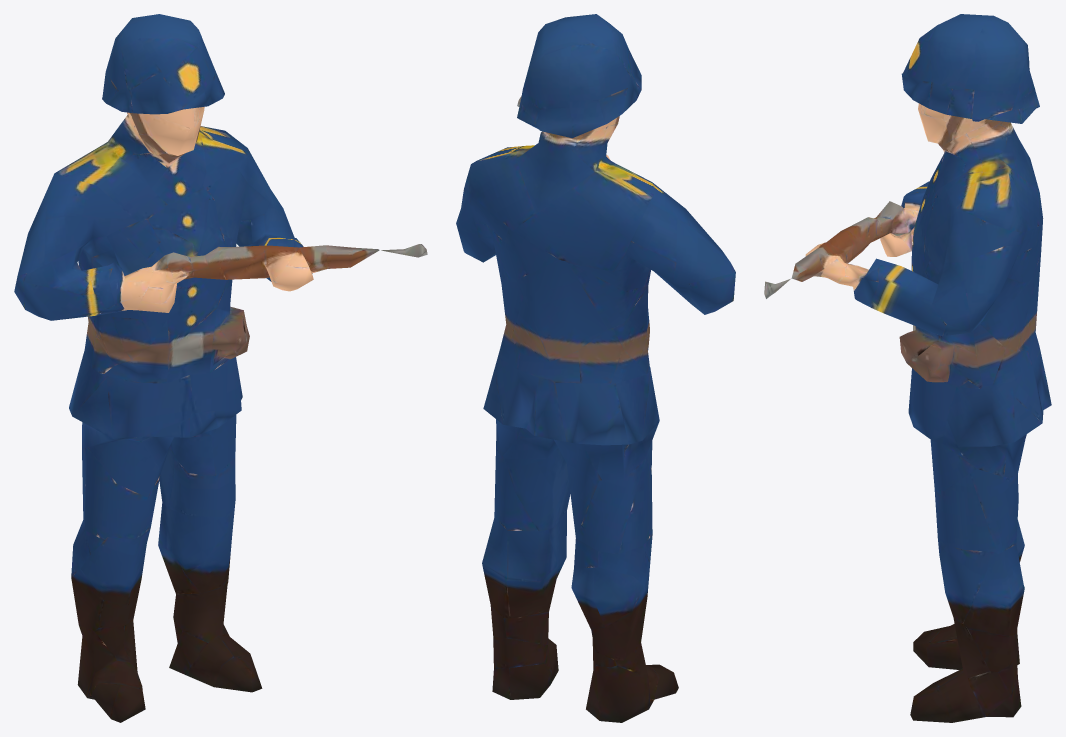
File: soldier.glb
3 views of the same model, side by side, from view 1: azimuth 30°, elevation 25°; view 2: azimuth 150°, elevation 25°; view 3: azimuth 270°, elevation 25° (orthographic).
Bounding box in the file's own units: 0.9294 × 1.9 × 0.7413.
1 material, 1 textured.
